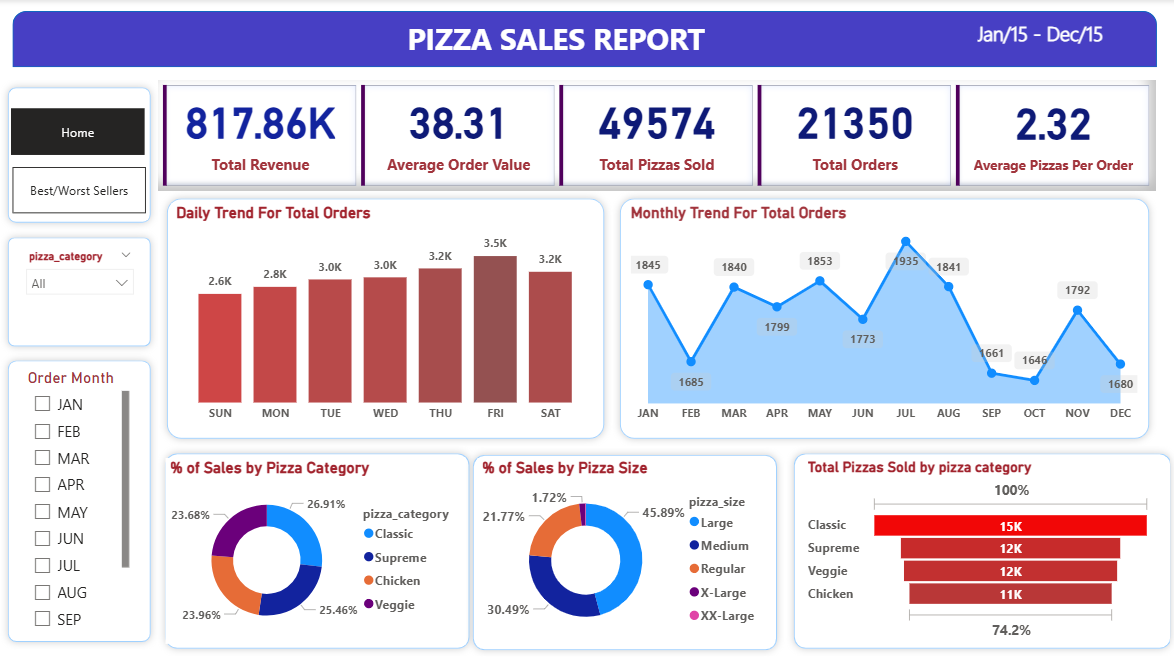

The dashboard page shown, as its layout file describes it:
{"tool":"powerbi","page":{"name":"Home","canvas":[1280,720],"ordinal":0},"visuals":[{"type":"shape","box":[20.3,12.2,1235.4,60.8],"z":0},{"type":"cardVisual","fields":{"Data":["public pizza_sales.Total Revenue","public pizza_sales.Average Order Value","public pizza_sales.Total Pizzas Sold","public pizza_sales.Total Orders","public pizza_sales.Average Pizzas Per Order"]},"box":[178.2,87.1,1077.5,119.5],"z":1000},{"type":"textbox","box":[441.5,14.2,449.6,52.7],"z":2000},{"type":"textbox","box":[1057.2,16.2,162,48.6],"z":3000},{"type":"shape","box":[180.3,206.6,488.1,275.4],"z":4000},{"type":"columnChart","title":"Daily Trend For Total Orders","fields":{"Category":["public pizza_sales.Order Day"],"Y":["public pizza_sales.Total Orders"]},"box":[192.4,220.8,461.8,245.1],"z":5000},{"type":"shape","box":[668.4,206.6,587.3,275.4],"z":6000},{"type":"shape","box":[178.2,482,344.3,226.8],"z":7000},{"type":"areaChart","title":"Monthly Trend For Total Orders","fields":{"Category":["public pizza_sales.Order Month"],"Y":["public pizza_sales.Total Orders"]},"box":[682.5,220.8,557,245.1],"z":8000},{"type":"shape","box":[510.4,484.1,344.3,226.8],"z":9000},{"type":"donutChart","title":"% of Sales by Pizza Size","fields":{"Category":["public pizza_sales.pizza_size"],"Y":["public pizza_sales.Total Revenue"]},"box":[522.5,496.2,315.9,200.5],"z":10000},{"type":"shape","box":[856.7,482,423.3,226.8],"z":11000},{"type":"funnel","title":"Total Pizzas Sold by pizza category","fields":{"Category":["public pizza_sales.pizza_category"],"Y":["public pizza_sales.Total Pizzas Sold"]},"box":[874.9,496.2,380.8,200.5],"z":12000},{"type":"donutChart","title":"% of Sales by Pizza Category","fields":{"Category":["public pizza_sales.pizza_category"],"Y":["public pizza_sales.Total Revenue"]},"box":[186.3,496.2,324.1,200.5],"z":13000},{"type":"shape","box":[8.1,249.1,170.1,133.7],"z":14000},{"type":"shape","box":[8.1,382.8,170.1,320],"z":15000},{"type":"slicer","title":"Order Month","fields":{"Values":["public pizza_sales.Order Month"]},"box":[32.4,399,119.5,287.6],"z":16000},{"type":"slicer","fields":{"Values":["public pizza_sales.pizza_category"]},"box":[26.3,265.3,135.7,99.2],"z":17000},{"type":"shape","box":[8.1,87.1,170.1,162],"z":18000},{"type":"pageNavigator","box":[19.4,118.2,144.1,50.2],"z":19000},{"type":"pageNavigator","box":[21,181.4,144.1,50.2],"z":20000}]}

Visuals, with their boxes in screenshot pixels (x1, y1, x2, y2), scaled from the page's 1280x720 canvas onto the 1174x658 screenshot:
shape: [left=19, top=11, right=1152, bottom=67]
cardVisual - public pizza_sales.Total Revenue x public pizza_sales.Average Order Value: [left=163, top=80, right=1152, bottom=189]
textbox: [left=405, top=13, right=817, bottom=61]
textbox: [left=970, top=15, right=1118, bottom=59]
shape: [left=165, top=189, right=613, bottom=440]
"Daily Trend For Total Orders" columnChart: [left=176, top=202, right=600, bottom=426]
shape: [left=613, top=189, right=1152, bottom=440]
shape: [left=163, top=440, right=479, bottom=648]
"Monthly Trend For Total Orders" areaChart: [left=626, top=202, right=1137, bottom=426]
shape: [left=468, top=442, right=784, bottom=650]
"% of Sales by Pizza Size" donutChart: [left=479, top=453, right=769, bottom=637]
shape: [left=786, top=440, right=1173, bottom=648]
"Total Pizzas Sold by pizza category" funnel: [left=802, top=453, right=1152, bottom=637]
"% of Sales by Pizza Category" donutChart: [left=171, top=453, right=468, bottom=637]
shape: [left=7, top=228, right=163, bottom=350]
shape: [left=7, top=350, right=163, bottom=642]
"Order Month" slicer: [left=30, top=365, right=139, bottom=627]
slicer - public pizza_sales.pizza_category: [left=24, top=242, right=149, bottom=333]
shape: [left=7, top=80, right=163, bottom=228]
pageNavigator: [left=18, top=108, right=150, bottom=154]
pageNavigator: [left=19, top=166, right=151, bottom=212]
